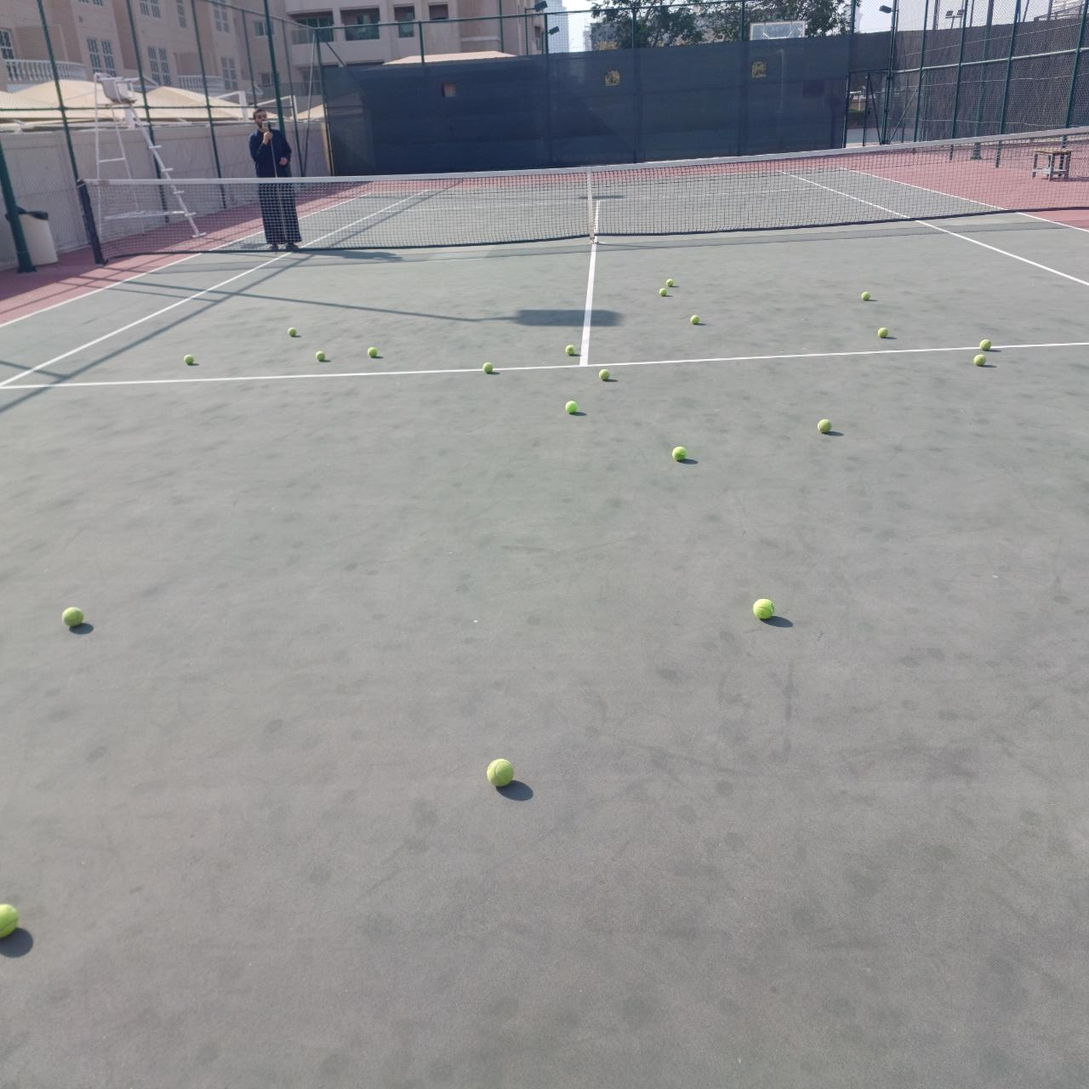tennis-ball: (484, 755, 514, 787), (0, 901, 19, 938), (750, 596, 774, 620), (60, 604, 83, 626), (671, 446, 686, 461), (817, 419, 832, 434), (974, 354, 987, 367), (565, 400, 577, 414), (598, 369, 610, 381), (367, 346, 378, 358), (482, 362, 493, 374), (979, 339, 991, 350), (184, 353, 194, 365), (878, 327, 888, 338), (315, 351, 325, 361), (690, 315, 700, 325), (861, 291, 871, 300), (566, 345, 575, 355), (288, 327, 297, 336), (665, 278, 674, 287), (659, 288, 667, 296)
